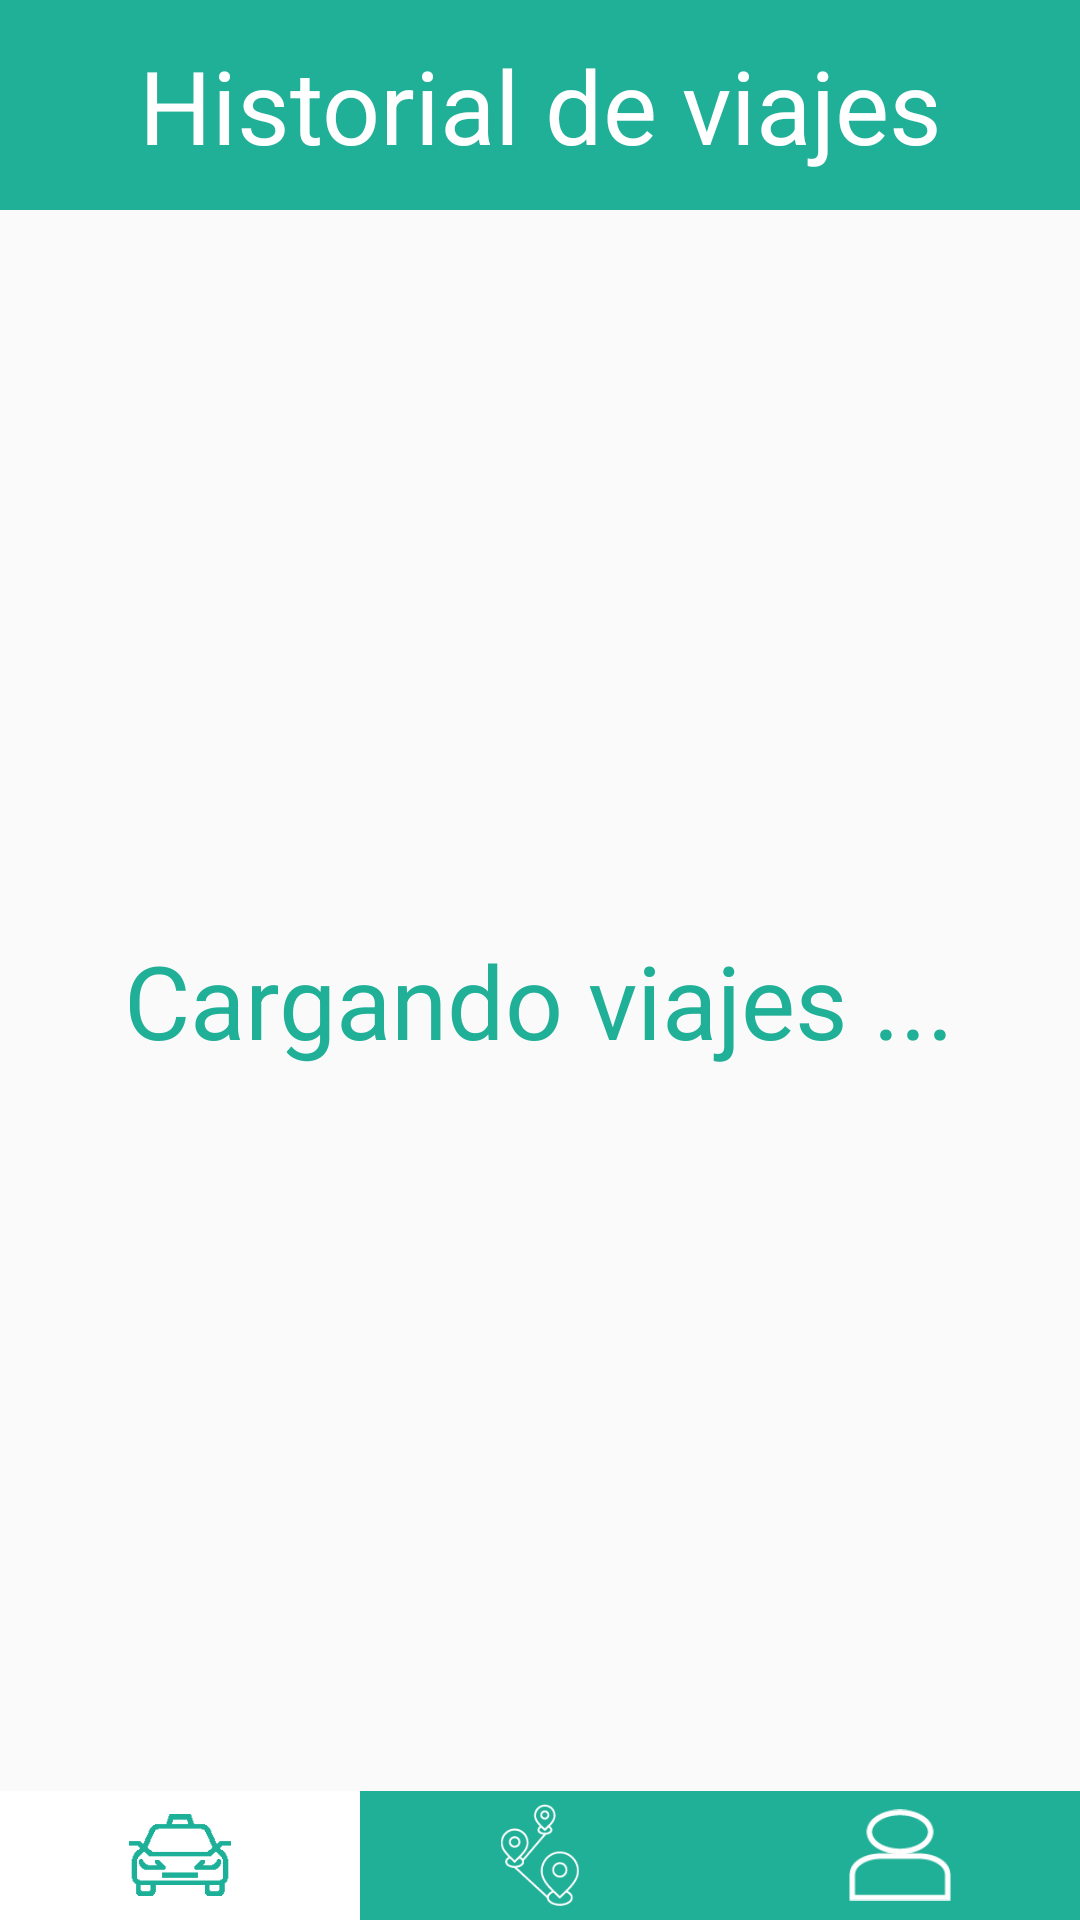

Icon click points for this 1080 × 1920 phone screenshot, format [x,y]:
auto: [180,1855]
mapa blanco: [540,1855]
perfil: [900,1855]
